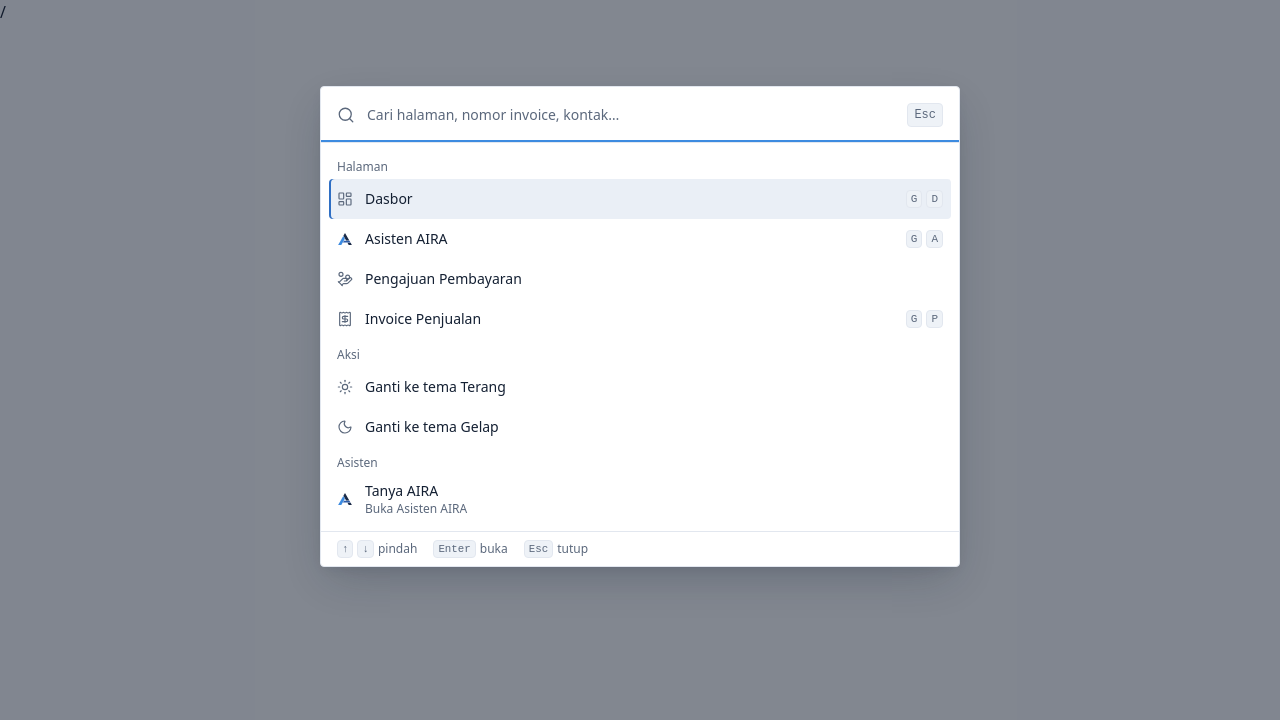
Test: CommandPalette › keeps record search and drops records whose page is not allowed
Type "INV" into the dropdown at (631, 115), box [367, 87, 895, 142]
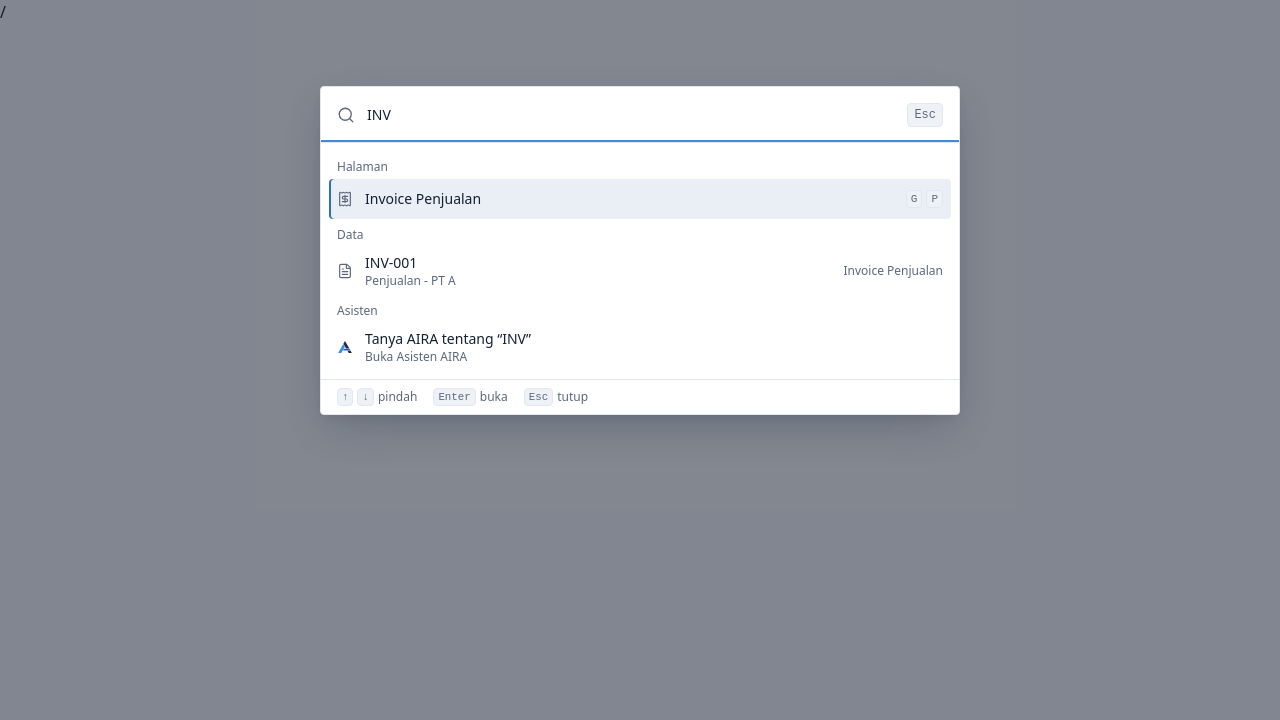
expect the option "INV-001 Penjualan - PT A Invoice Penjualan" is shown: met, box [329, 247, 951, 295]
